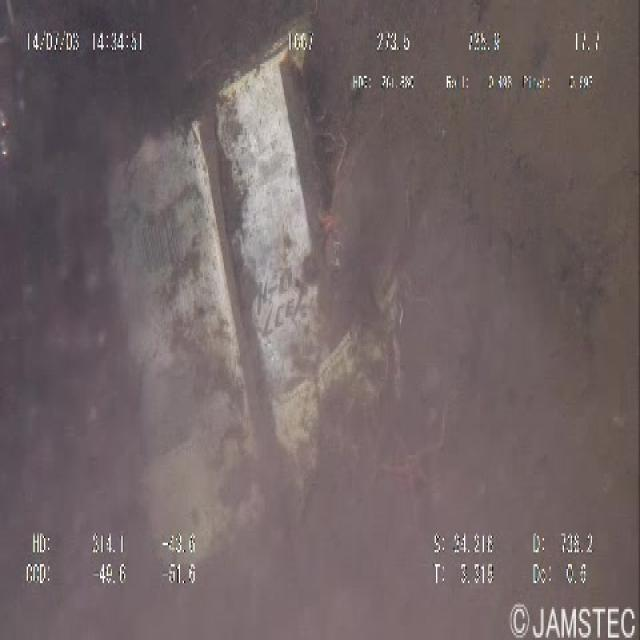plastic: (88, 21, 408, 588)
